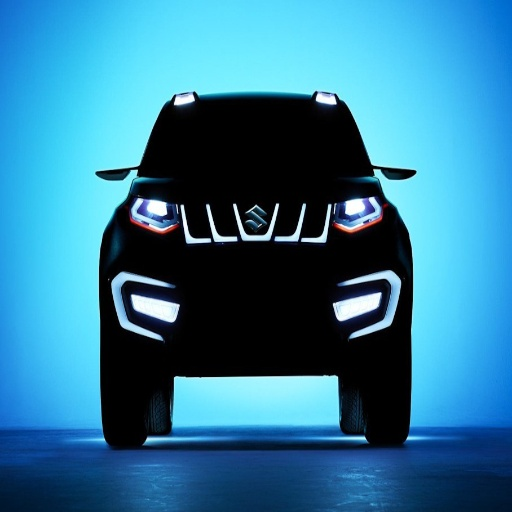back_bumper: (111, 235, 168, 327)
front_bumper: (120, 287, 192, 343), (365, 286, 399, 333)
trunk: (146, 181, 377, 357)
